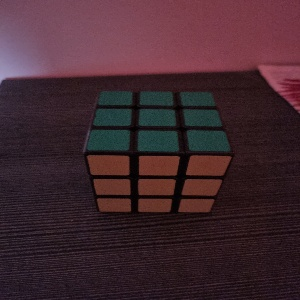cube: (84, 91, 234, 213)
